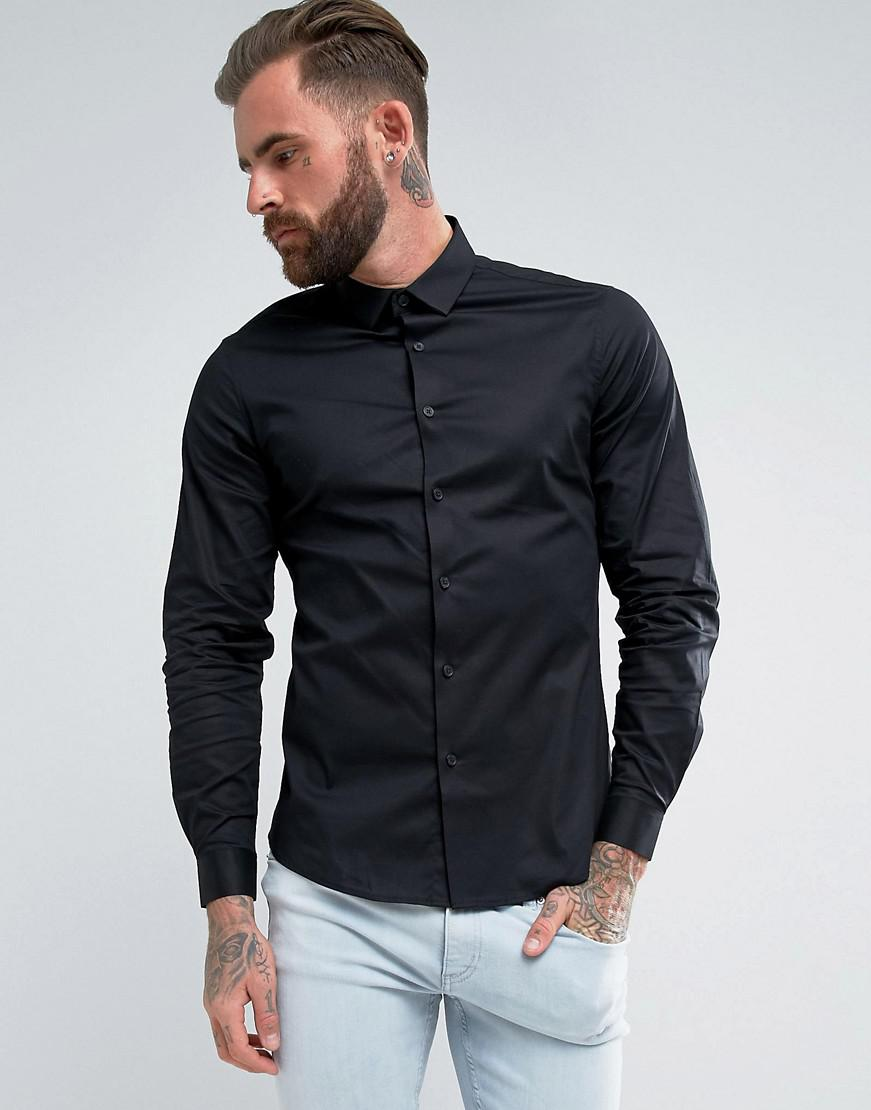teeshirt: (134, 283, 747, 883)
